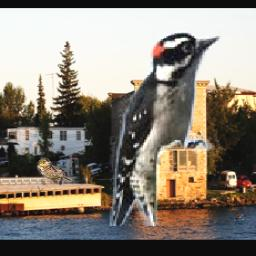Sparrow: (38, 158, 74, 186)
Woodpecker: (110, 31, 221, 226)
